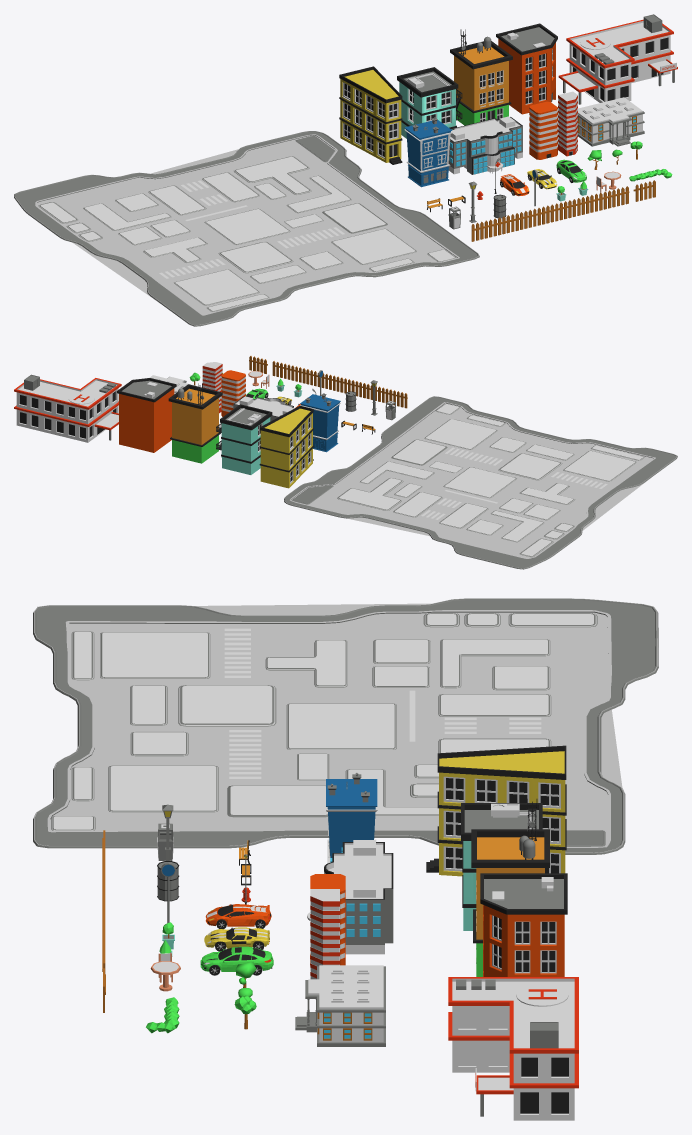
The model's file is city model 3.fbx.
3 views of the same model, one above another, from view 1: azimuth 30°, elevation 25°; view 2: azimuth 150°, elevation 25°; view 3: azimuth 270°, elevation 25° (orthographic). The views are drawn at different scales.
Parts seen in each view (by area): view 1: convert1.002, building10, building6, building8, building9, building2, building7, building5, building1, Fences, building3, building4 (+1 smaller); view 2: convert1.002, building10, building9, building6, building8, building7, Fences, building1, building3, building2, building4; view 3: convert1.002, building10, building6, building9, building5, building2, building8, building1, building7, building4, car3, car1 (+2 smaller).
Part boxes in pixels (bbox=[...]): convert1.002: bbox=[14, 131, 479, 326]; building10: bbox=[558, 14, 677, 104]; building6: bbox=[339, 66, 402, 164]; building8: bbox=[450, 29, 512, 125]; building9: bbox=[496, 23, 557, 114]; building2: bbox=[448, 116, 522, 174]; building7: bbox=[397, 67, 462, 138]; building5: bbox=[577, 97, 644, 146]; building1: bbox=[404, 117, 452, 187]; Fences: bbox=[471, 186, 629, 241]; building3: bbox=[529, 101, 557, 159]; building4: bbox=[558, 91, 577, 156]; convert1.002: bbox=[284, 396, 677, 569]; building10: bbox=[14, 374, 121, 442]; building9: bbox=[117, 378, 176, 452]; building6: bbox=[259, 405, 313, 488]; building8: bbox=[168, 383, 222, 463]; building7: bbox=[216, 404, 272, 474]; Fences: bbox=[272, 361, 407, 408]; building1: bbox=[300, 393, 340, 452]; building3: bbox=[221, 370, 245, 416]; building2: bbox=[233, 396, 294, 421]; building4: bbox=[202, 362, 222, 413]; convert1.002: bbox=[33, 598, 658, 854]; building10: bbox=[448, 977, 578, 1120]; building6: bbox=[426, 745, 566, 876]; building9: bbox=[480, 873, 567, 976]; building5: bbox=[295, 965, 385, 1046]; building2: bbox=[307, 840, 393, 954]; building8: bbox=[471, 799, 549, 976]; building1: bbox=[326, 773, 377, 863]; building7: bbox=[461, 803, 542, 930]; building4: bbox=[310, 889, 339, 979]; car3: bbox=[200, 946, 273, 975]; car1: bbox=[205, 904, 271, 929].
Size of the model in its own units: 3860 by 539 by 1947.
